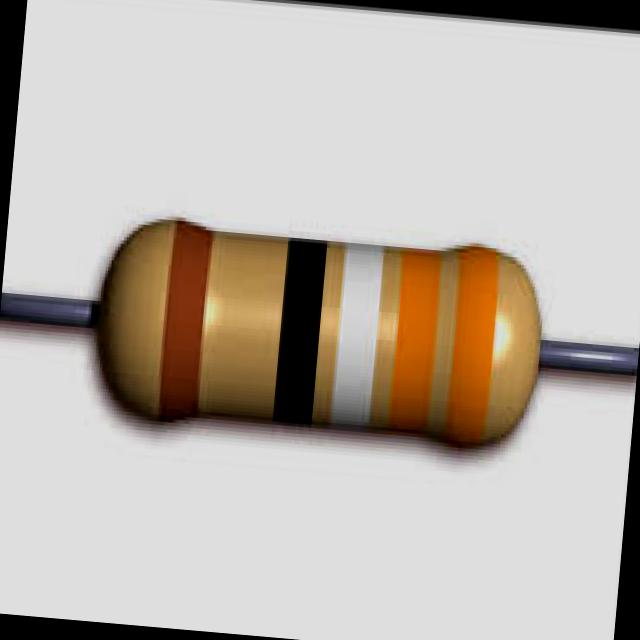Resistor: (98, 219, 540, 442)
black: (273, 242, 326, 424)
brown: (158, 222, 212, 419)
orange: (446, 247, 497, 445), (387, 251, 439, 433)
white: (330, 245, 383, 428)
